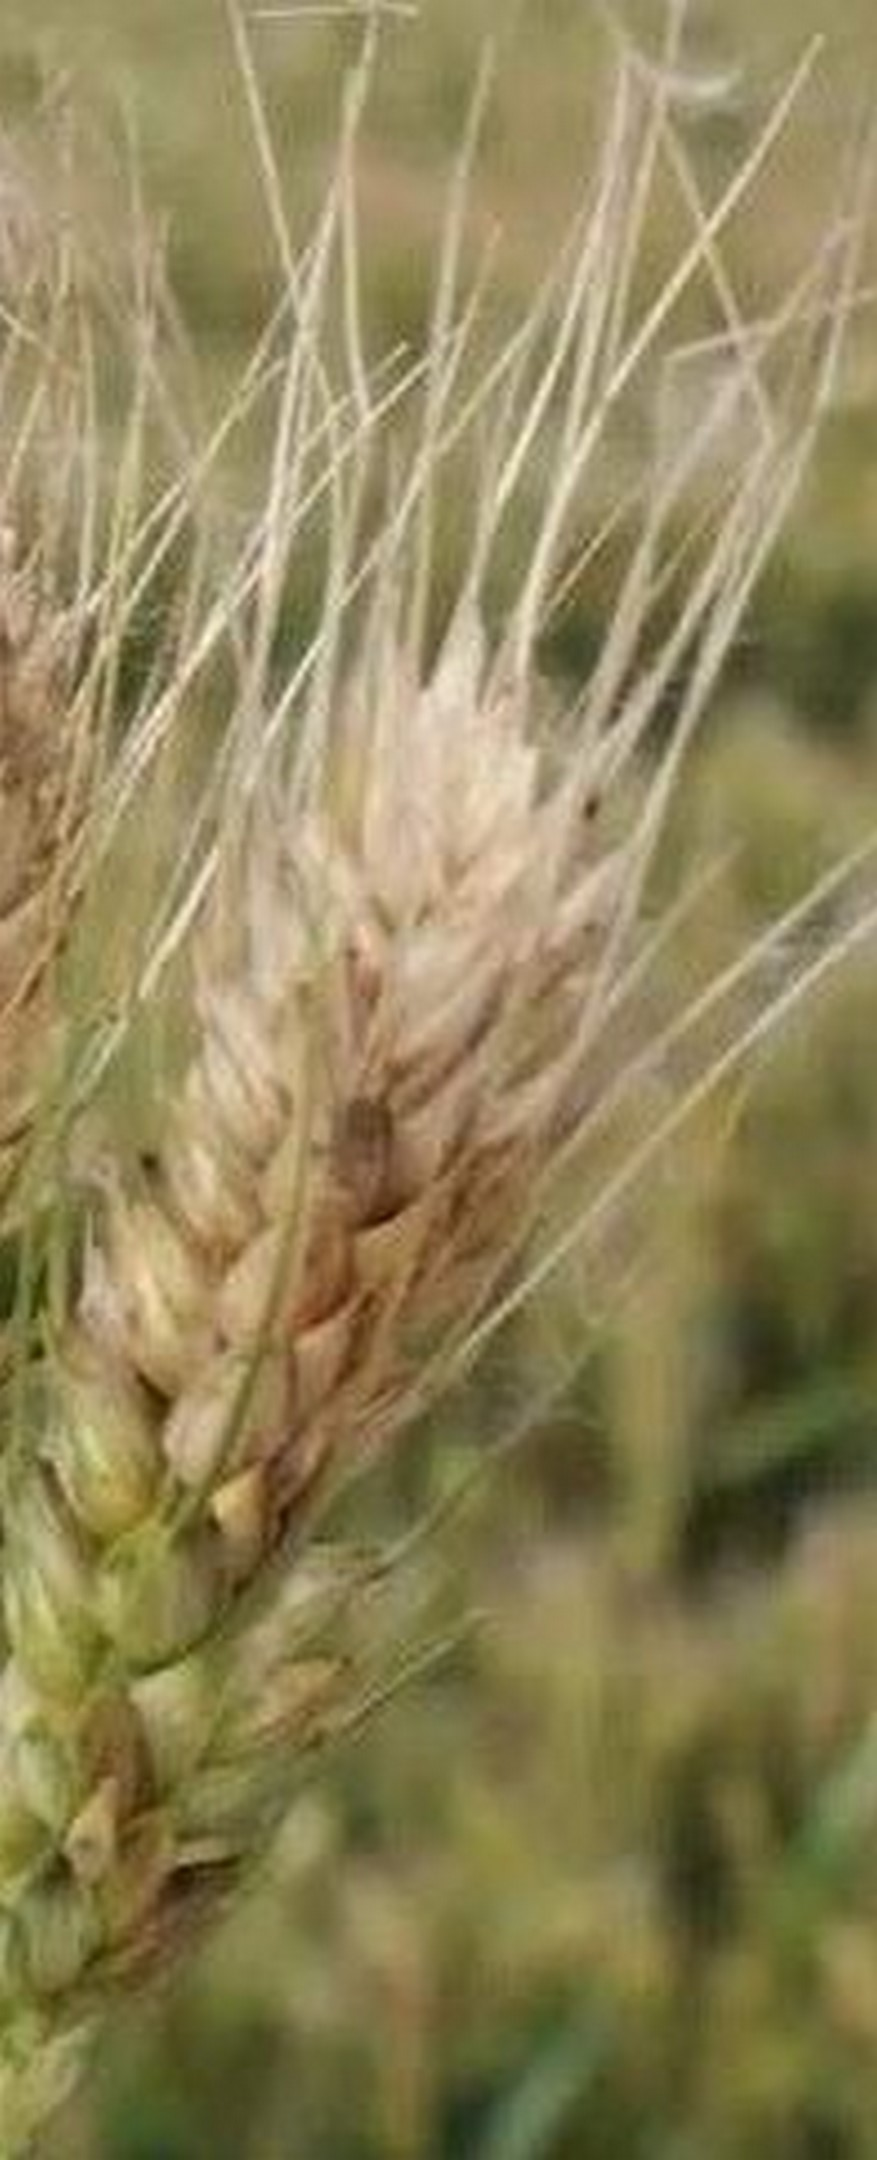Wheat scab: (34, 607, 676, 2031)
